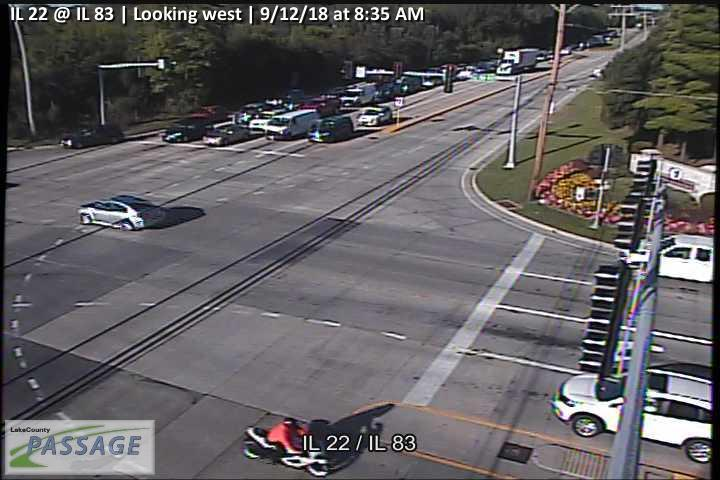Bus: (264, 109, 319, 140)
Motorbike: (240, 424, 331, 477)
SUV: (549, 365, 720, 464), (60, 124, 125, 148), (161, 116, 212, 142), (307, 115, 354, 143), (300, 95, 342, 115), (356, 105, 393, 127)
Sedan: (77, 194, 166, 231), (202, 123, 250, 145)
